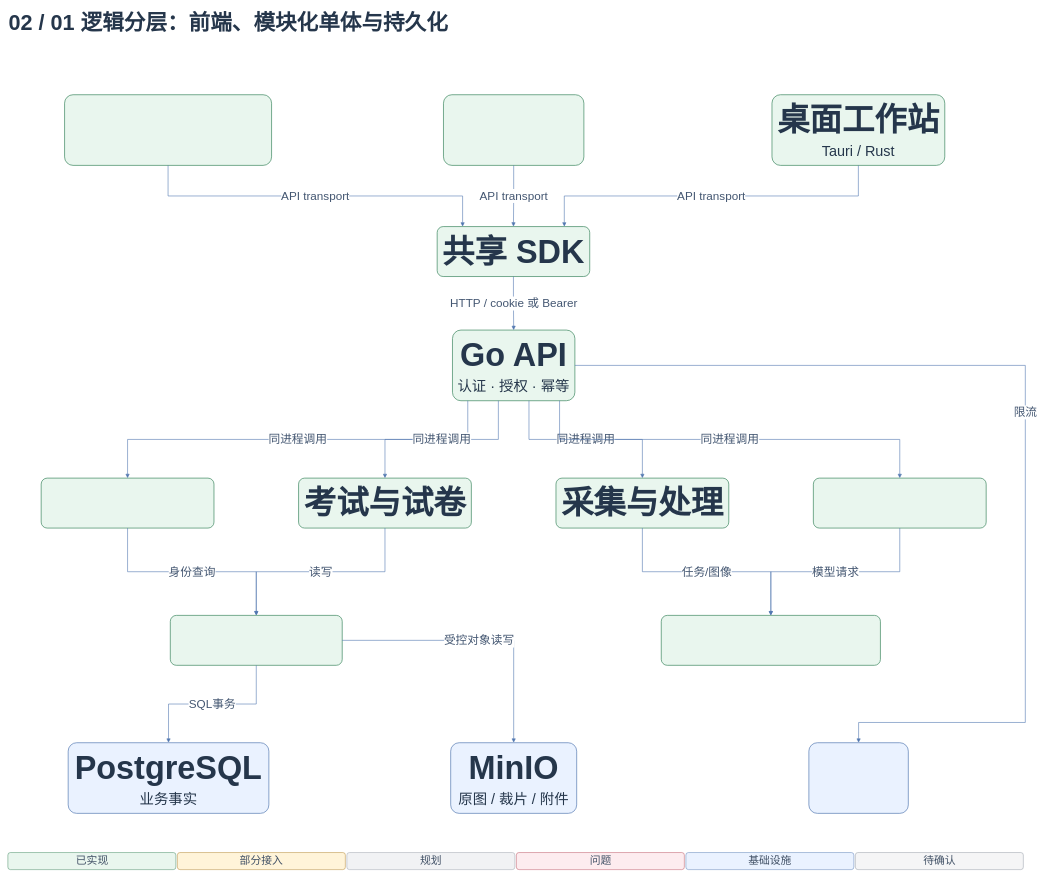
Some shapes in this 1045 by 878 pixel diagram are drawn without their labels. Here are the shapes that lost their labels. From the top down, the centre of each, then its label:
At [168,130]: "管理端 / 教师 React".
At [513,130]: "学生门户 React".
At [127,503]: "身份与组织".
At [899,503]: "评分与发布".
At [256,640]: "领域 Store".
At [771,640]: "图像 / AI 计算".
At [858,778]: "Redis 认证限流".
